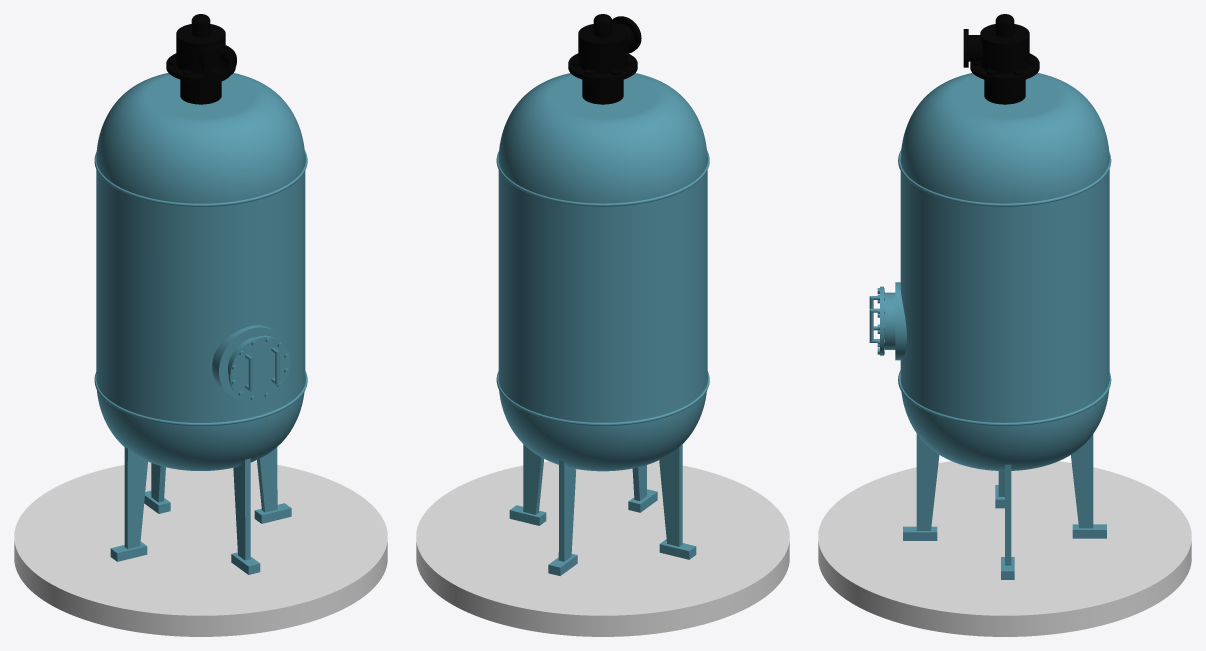
File: abc.fbx
3 renders of one model, left to right at view 1: azimuth 30°, elevation 25°; view 2: azimuth 150°, elevation 25°; view 3: azimuth 270°, elevation 25°, orthographic.
Parts seen in each view (by area): view 1: 物件_21, 物件_36, 物件_30, 物件_16, 物件_34, 物件_35, 物件_32, 物件_1, 物件_19, 物件_20, 物件_22, 物件_33; view 2: 物件_21, 物件_36, 物件_30, 物件_34, 物件_33, 物件_32, 物件_19, 物件_20, 物件_22, 物件_35, 物件_23; view 3: 物件_21, 物件_36, 物件_30, 物件_35, 物件_33, 物件_32, 物件_19, 物件_20, 物件_22, 物件_1, 物件_23, 物件_18.
Boxes of the visible parts, left/top/right/bottom form: 物件_21: left=96, top=73, right=305, bottom=470; 物件_36: left=14, top=461, right=387, bottom=636; 物件_30: left=176, top=24, right=236, bottom=82; 物件_16: left=229, top=336, right=290, bottom=401; 物件_34: left=110, top=447, right=147, bottom=561; 物件_35: left=231, top=458, right=260, bottom=574; 物件_32: left=254, top=447, right=291, bottom=523; 物件_1: left=212, top=325, right=284, bottom=399; 物件_19: left=94, top=150, right=307, bottom=206; 物件_20: left=94, top=371, right=307, bottom=426; 物件_22: left=180, top=79, right=221, bottom=104; 物件_33: left=144, top=463, right=170, bottom=513; 物件_21: left=498, top=73, right=707, bottom=471; 物件_36: left=416, top=461, right=789, bottom=636; 物件_30: left=578, top=16, right=641, bottom=73; 物件_34: left=659, top=444, right=696, bottom=559; 物件_33: left=548, top=460, right=577, bottom=575; 物件_32: left=509, top=444, right=546, bottom=525; 物件_19: left=496, top=150, right=709, bottom=206; 物件_20: left=496, top=371, right=709, bottom=425; 物件_22: left=582, top=79, right=623, bottom=104; 物件_35: left=628, top=465, right=657, bottom=512; 物件_23: left=568, top=53, right=637, bottom=82; 物件_21: left=900, top=73, right=1109, bottom=470; 物件_36: left=818, top=461, right=1191, bottom=636; 物件_30: left=963, top=24, right=1029, bottom=73; 物件_35: left=903, top=434, right=939, bottom=540; 物件_33: left=1071, top=434, right=1106, bottom=538; 物件_32: left=1001, top=464, right=1014, bottom=579; 物件_19: left=898, top=150, right=1111, bottom=206; 物件_20: left=898, top=370, right=1111, bottom=425; 物件_22: left=984, top=79, right=1025, bottom=104; 物件_1: left=895, top=282, right=906, bottom=360; 物件_23: left=970, top=53, right=1039, bottom=82; 物件_18: left=884, top=292, right=895, bottom=349.
Size of the model in its own units: 14.99 by 14.99 by 23.99.
